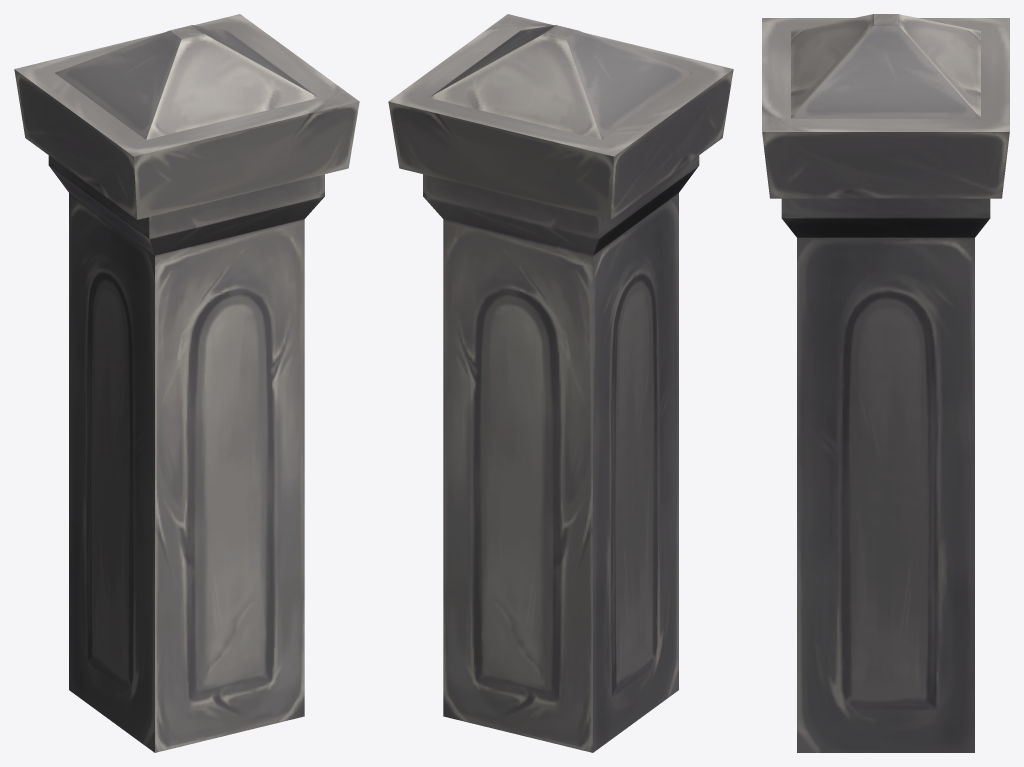
Rendered from langan02.fbx.
3 renders of one model, left to right at view 1: azimuth 30°, elevation 25°; view 2: azimuth 150°, elevation 25°; view 3: azimuth 270°, elevation 25°, orthographic. The views are drawn at different scales.
Visible parts, largest first — view 1: zhutou; view 2: zhutou; view 3: zhutou.
Part boxes in pixels (x1=…): zhutou: x1=14, y1=14, x2=359, y2=752; zhutou: x1=388, y1=14, x2=733, y2=752; zhutou: x1=762, y1=14, x2=1009, y2=752.
Bounding box in the file's own units: 19.16 × 54.41 × 17.57.
1 material, 1 textured.
